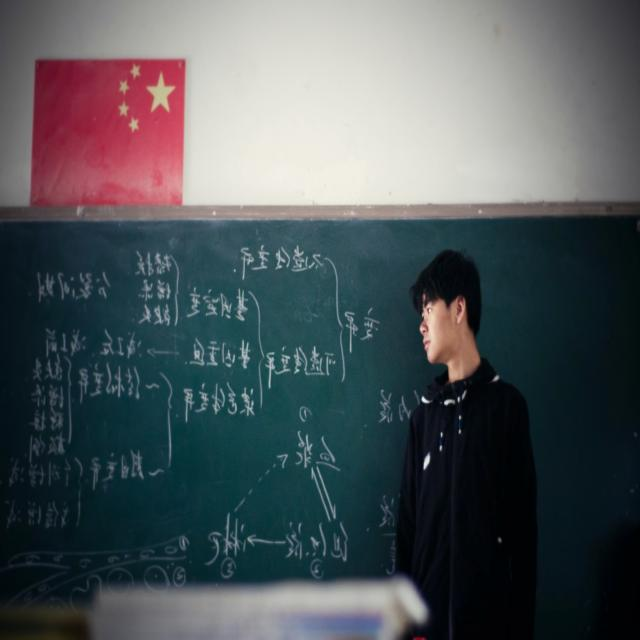adult: (398, 252, 537, 640)
